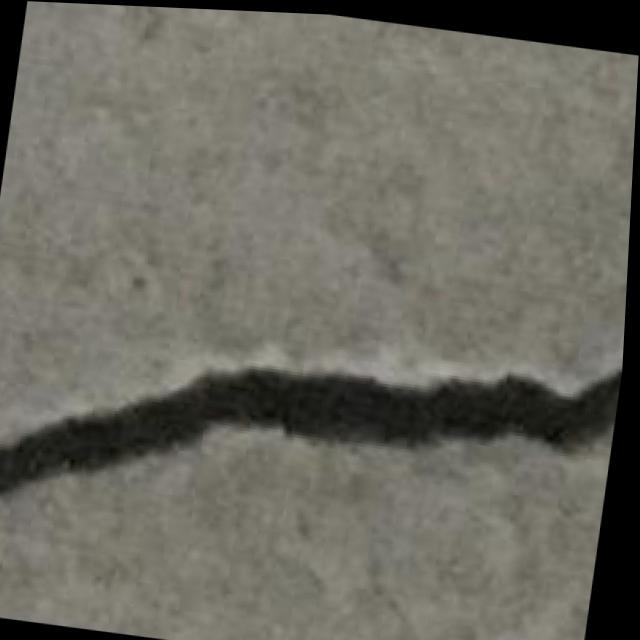Crack: (0, 265, 629, 587)
